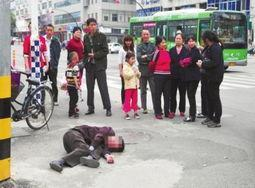Fall-Detected: (44, 116, 126, 171)
